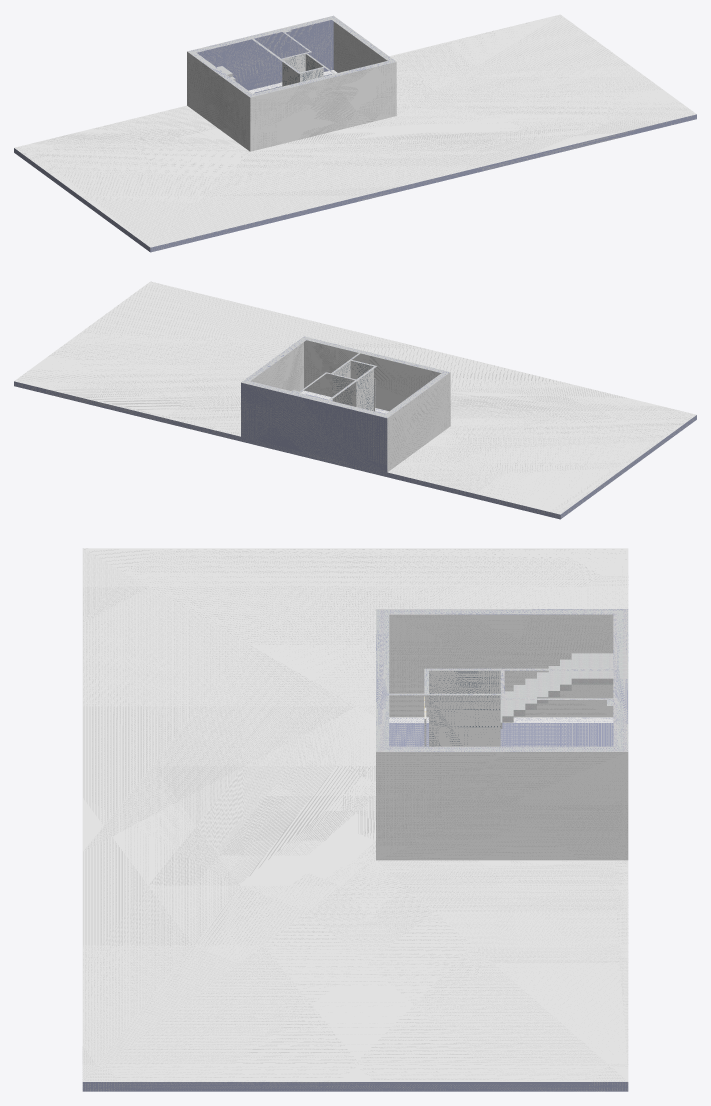
3 views of the same model, one above another, from view 1: azimuth 30°, elevation 25°; view 2: azimuth 150°, elevation 25°; view 3: azimuth 270°, elevation 25° (orthographic). The views are drawn at different scales.
Visible parts, largest first — view 1: Mesh23 Model; view 2: Mesh23 Model; view 3: Mesh23 Model, Mesh21 escalera1_1 Model.
Part boxes in pixels (left/top/right/bottom): Mesh23 Model: left=14, top=14, right=696, bottom=252; Mesh23 Model: left=14, top=281, right=696, bottom=519; Mesh23 Model: left=82, top=548, right=628, bottom=1091; Mesh21 escalera1_1 Model: left=571, top=653, right=613, bottom=684.
Size of the model in its own units: 31.65 by 3.26 by 13.69.
Materials: 6 (1 with a texture image).
